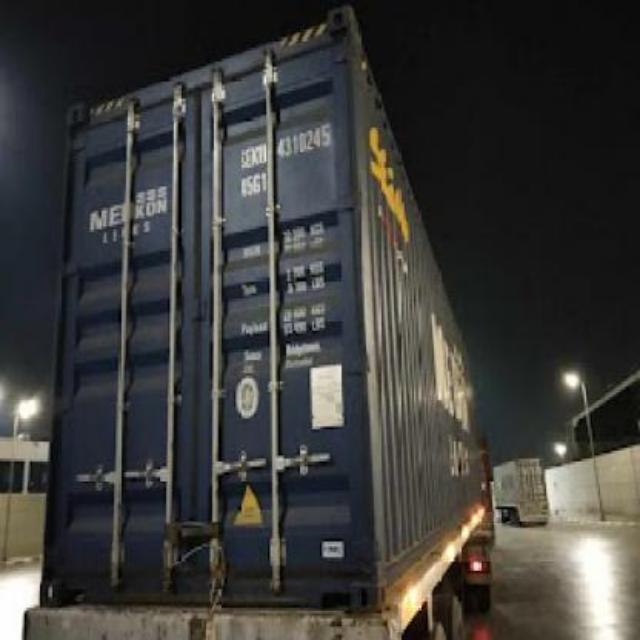0: (298, 128, 306, 156)
1: (292, 134, 298, 160)
2: (304, 116, 312, 160)
3: (282, 130, 290, 160)
4: (312, 125, 320, 152), (274, 133, 282, 157)
5: (320, 117, 328, 155)
E: (244, 144, 252, 168)
K: (250, 142, 258, 170)
S: (238, 144, 246, 172)
U: (258, 138, 266, 166)
